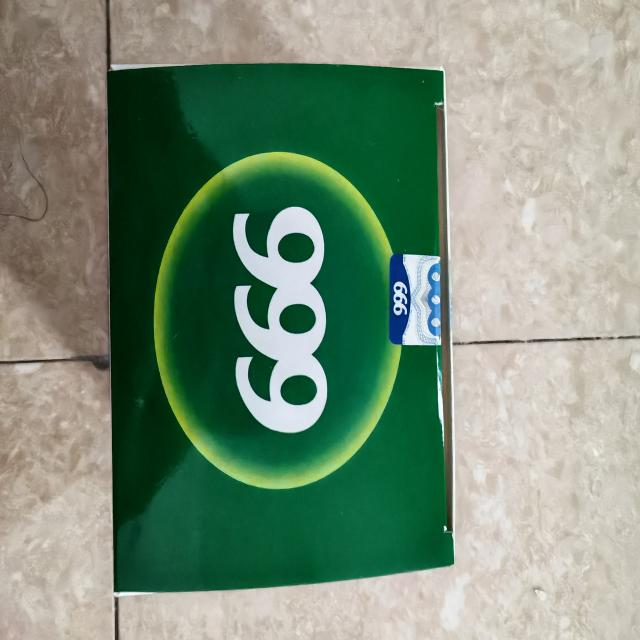box: (94, 56, 467, 601)
